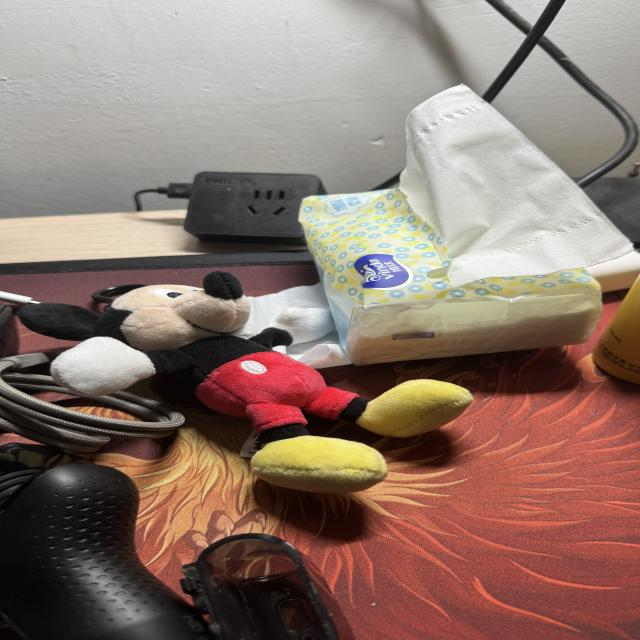mickey: (19, 272, 471, 492)
tissue: (300, 190, 601, 364), (401, 86, 633, 286)
